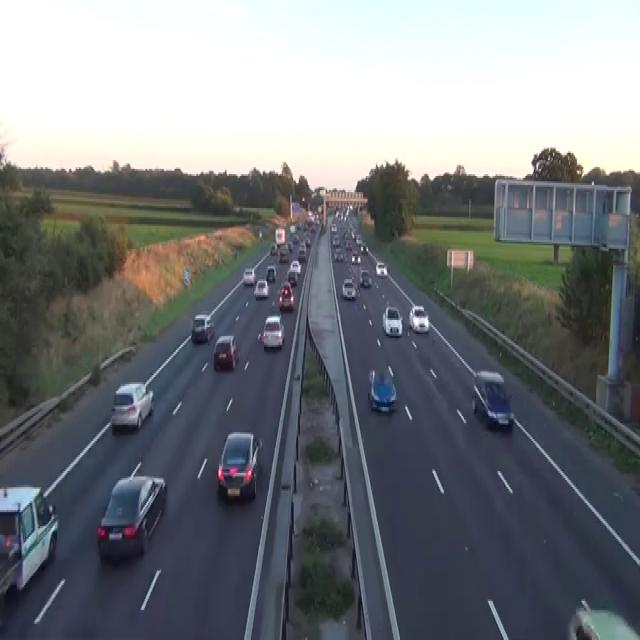Car: (96, 461, 167, 564), (0, 483, 58, 601), (217, 430, 263, 500), (568, 598, 639, 638), (471, 370, 514, 430), (110, 380, 154, 430), (367, 364, 397, 412), (213, 334, 239, 372), (261, 314, 285, 348), (191, 313, 214, 343), (382, 306, 403, 336), (408, 304, 429, 332), (278, 281, 294, 309), (253, 277, 268, 299), (341, 277, 356, 299), (243, 266, 255, 284), (359, 268, 371, 286), (286, 268, 297, 286), (375, 260, 387, 276), (266, 265, 276, 283), (290, 260, 301, 276), (297, 243, 306, 260), (334, 247, 344, 261), (278, 249, 288, 263), (351, 251, 361, 263), (360, 242, 368, 254), (231, 247, 238, 260), (270, 242, 277, 254), (332, 235, 340, 245), (345, 240, 352, 251), (286, 240, 292, 252), (292, 233, 299, 243), (331, 222, 337, 233), (313, 215, 320, 224), (355, 233, 361, 243), (304, 237, 310, 246), (289, 224, 295, 233), (296, 222, 302, 230), (258, 228, 262, 238)
Truck: (275, 228, 285, 245)
